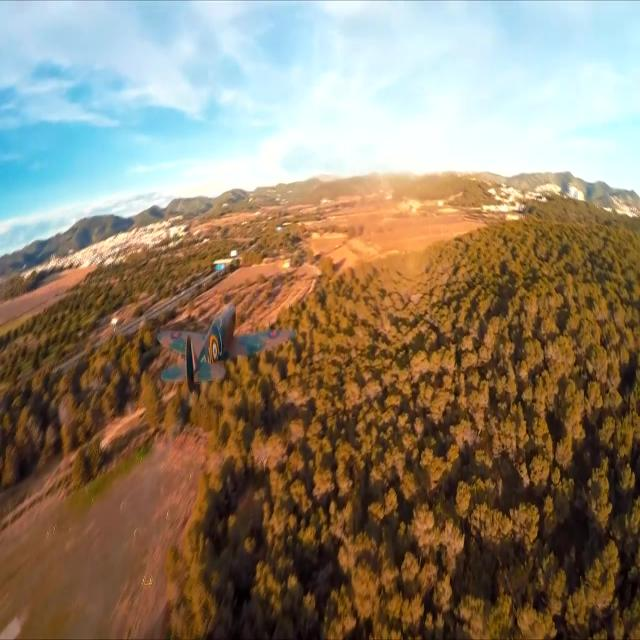iha: (156, 337, 297, 362)
